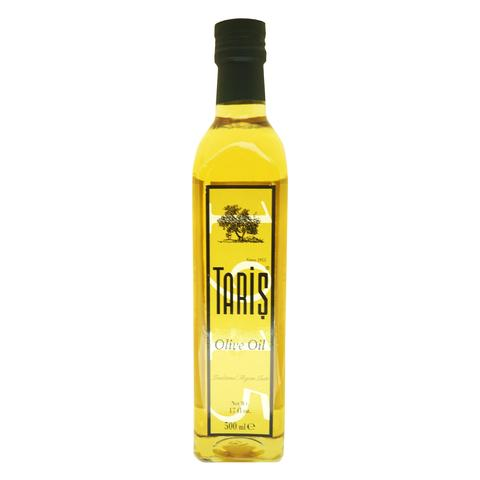glass_bottle: (185, 13, 296, 470)
